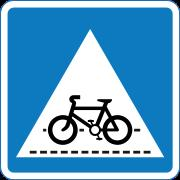Cycle Crossing: (15, 26, 163, 163)
